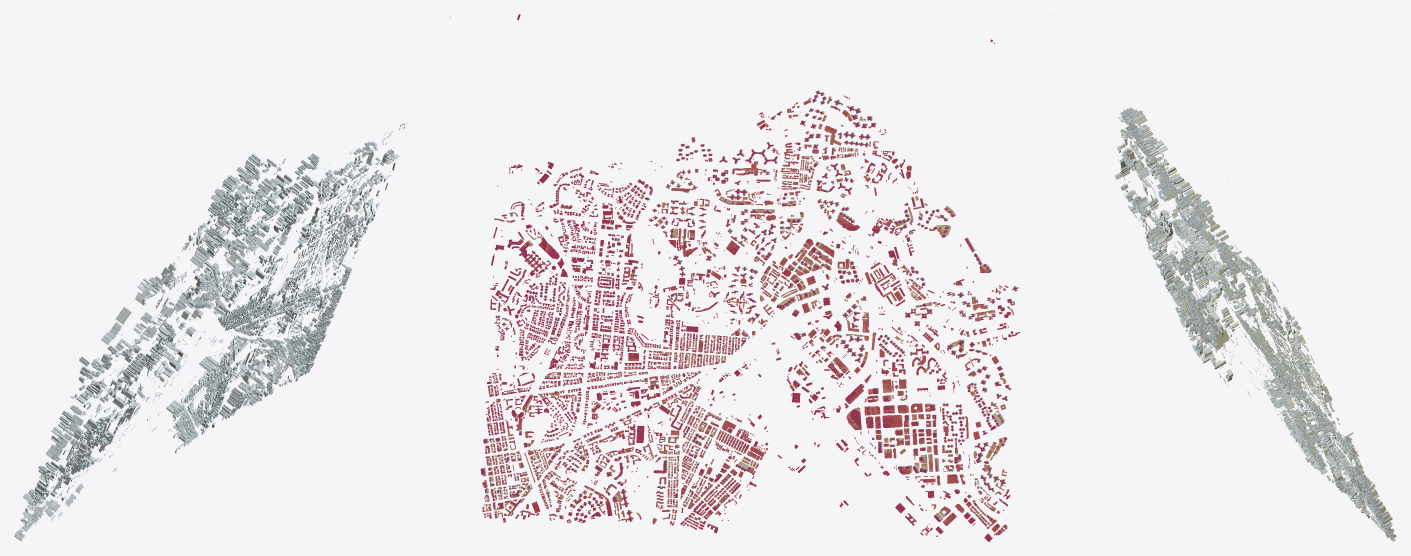
The picture shows the model from 3 angles, left to right: view 1: azimuth 30°, elevation 25°; view 2: azimuth 150°, elevation 25°; view 3: azimuth 270°, elevation 25°; orthographic projection. The views are drawn at different scales.
Visible parts, largest first — view 1: geometry_0; view 2: geometry_0; view 3: geometry_0.
Part boxes in pixels (left/top/right/bottom): geometry_0: left=14, top=14, right=451, bottom=541; geometry_0: left=480, top=14, right=1020, bottom=541; geometry_0: left=1050, top=15, right=1396, bottom=541.
Size of the model in its own units: 5187 by 4505 by 3608.
